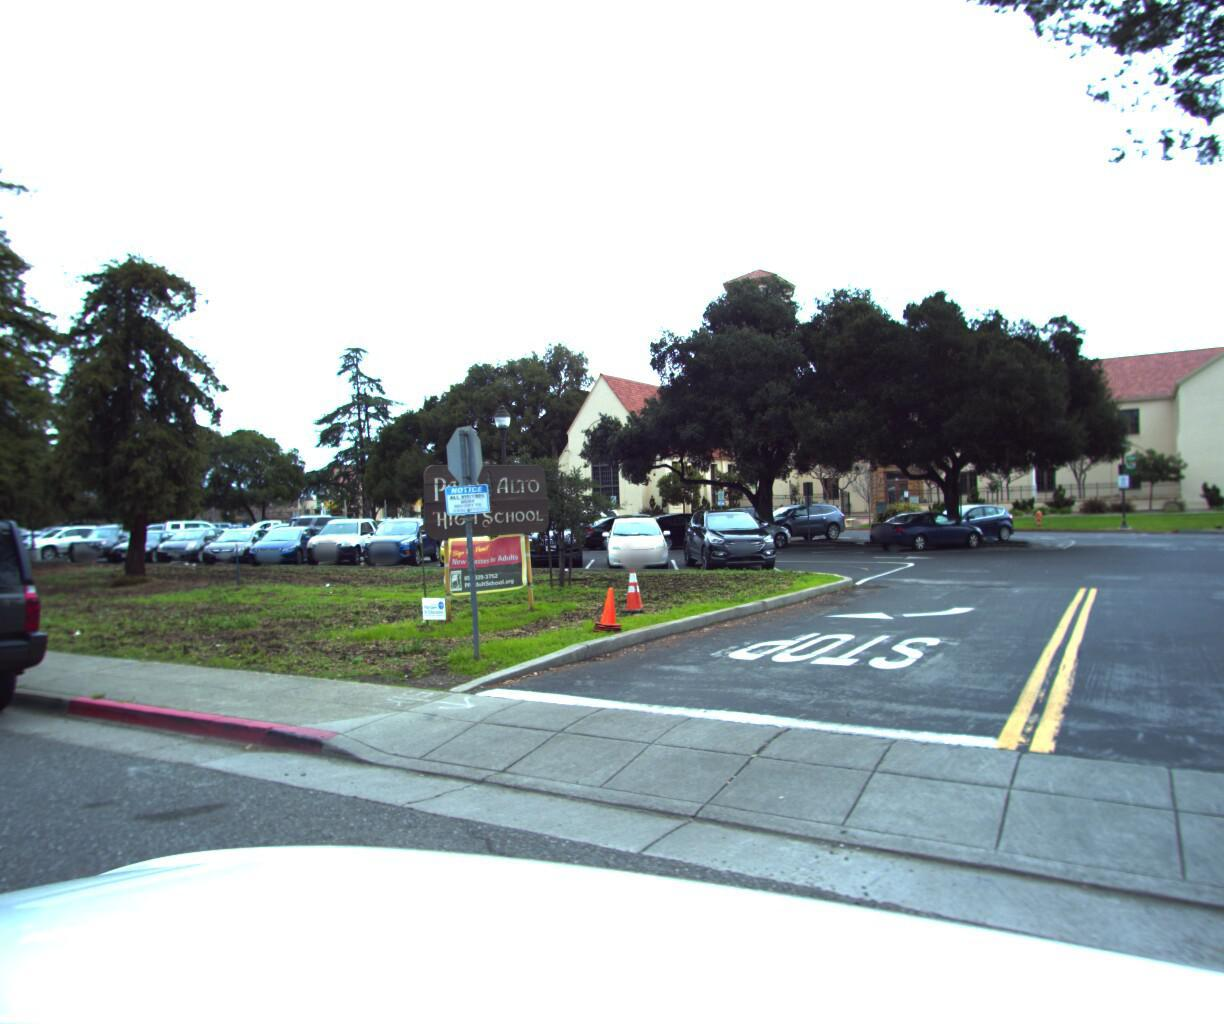car: (0, 499, 83, 780)
